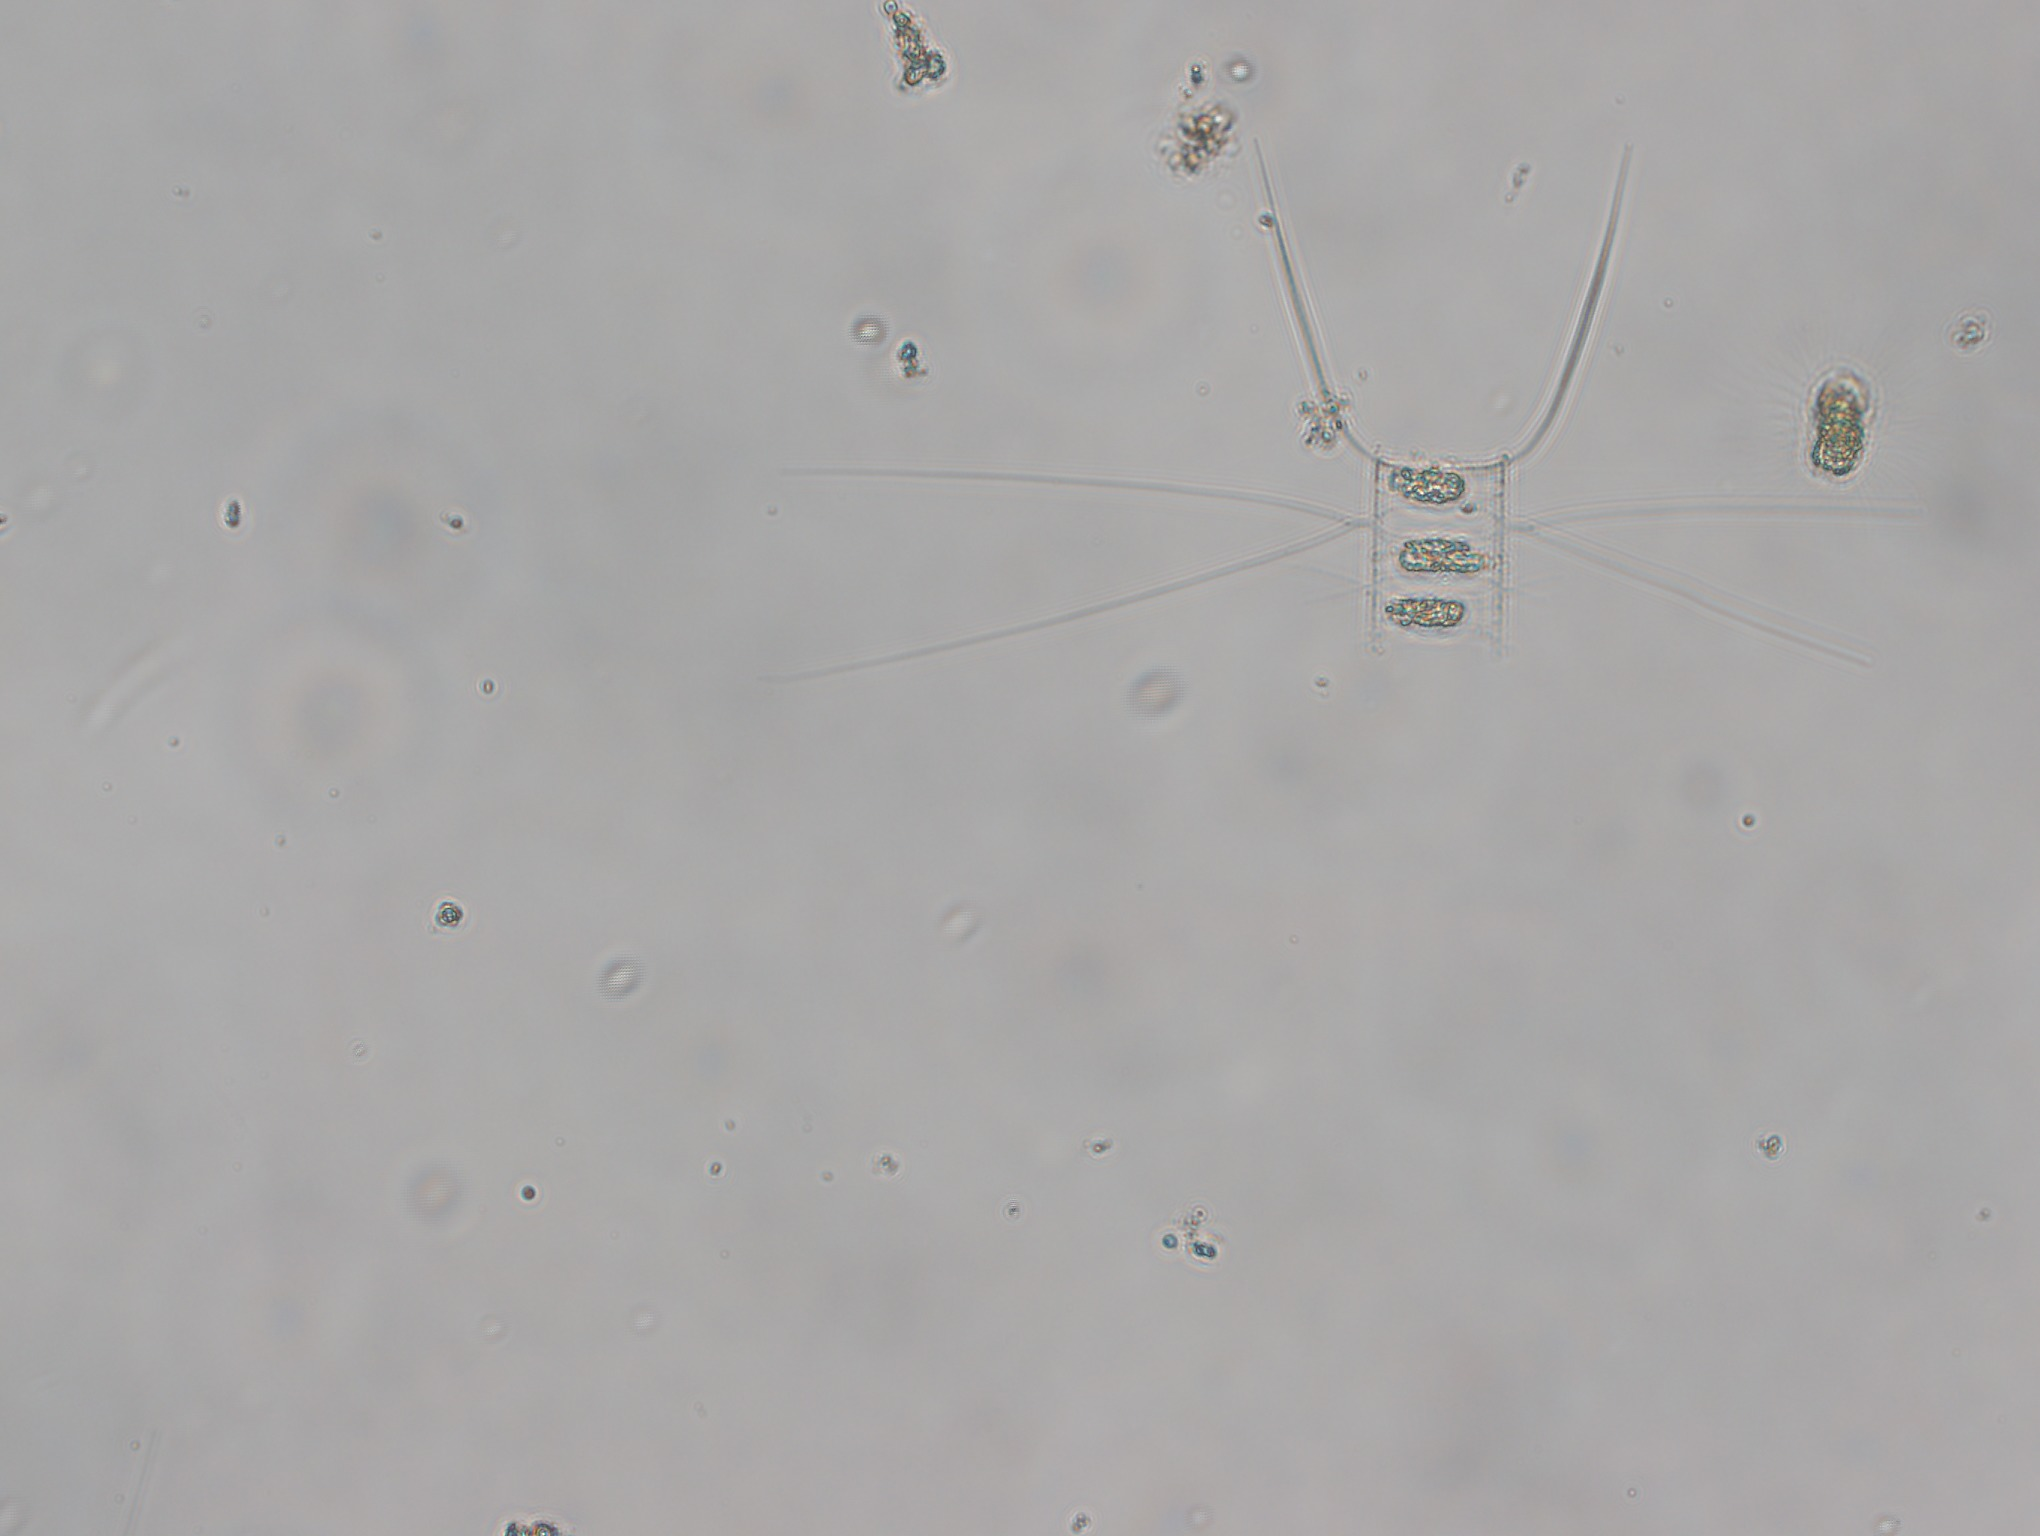chaetoceros: (819, 139, 1932, 700)
